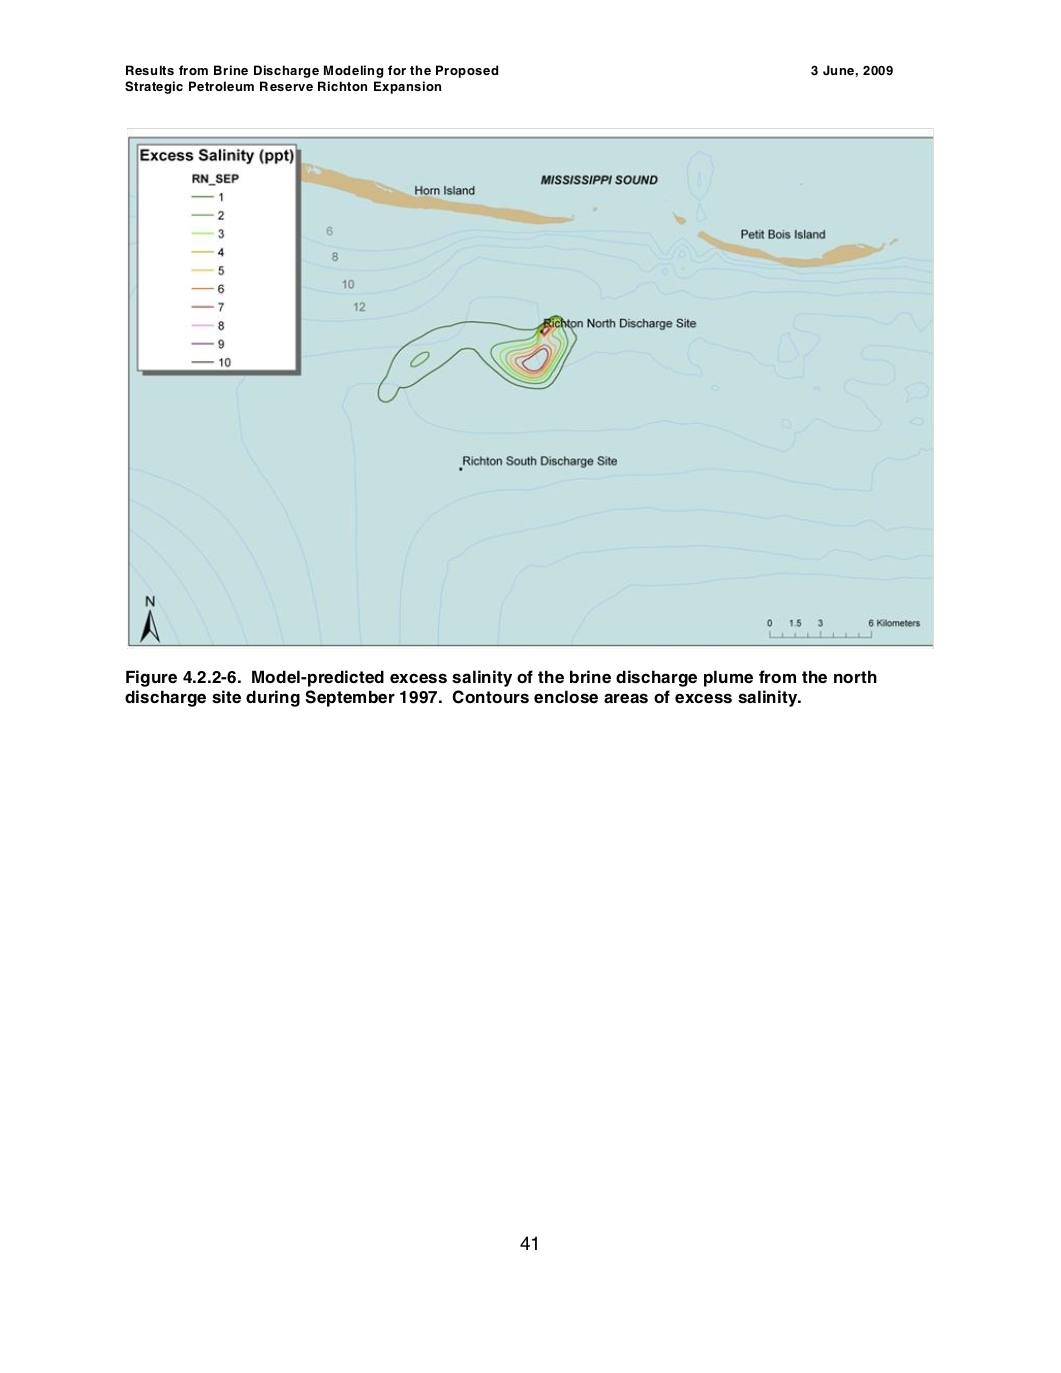figure: (127, 127, 933, 647)
